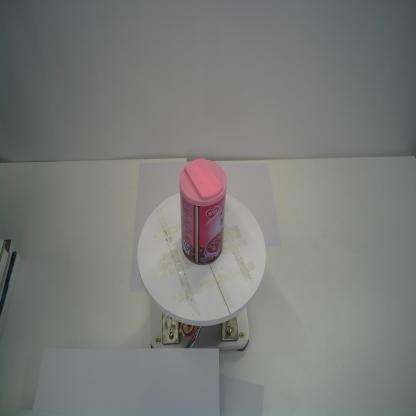Canned Food: (177, 157, 230, 268)
